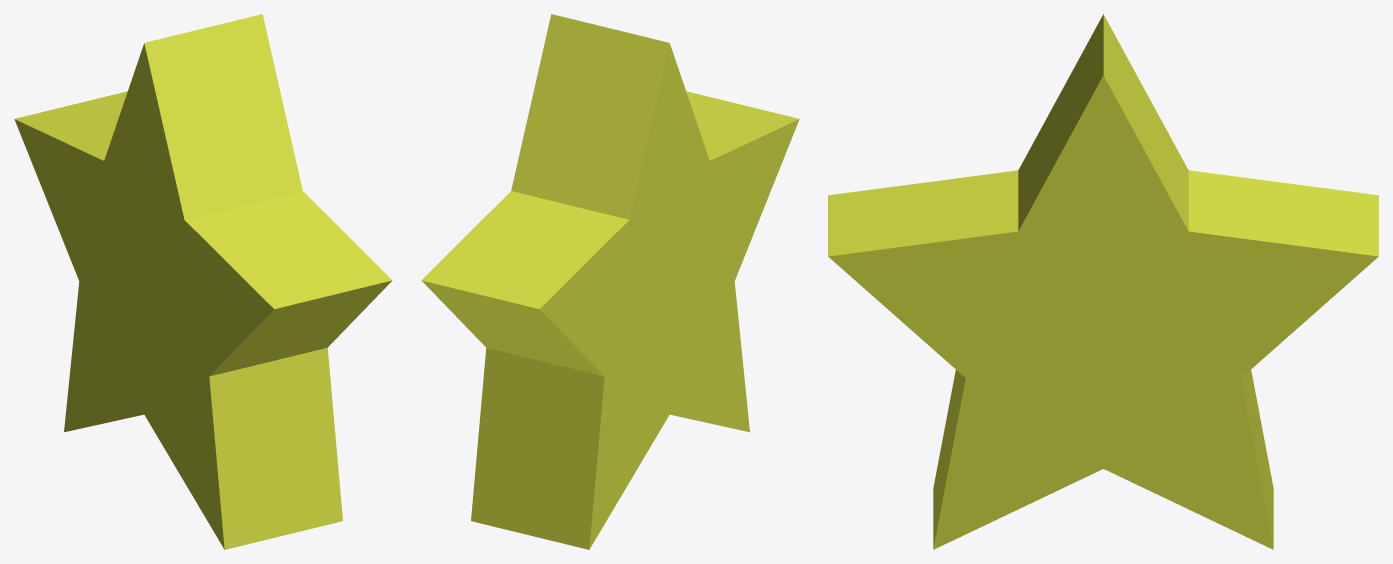
The model's file is Star.fbx.
The picture shows the model from 3 angles, left to right: view 1: azimuth 30°, elevation 25°; view 2: azimuth 150°, elevation 25°; view 3: azimuth 270°, elevation 25°; orthographic projection. The views are drawn at different scales.
Visible parts, largest first — view 1: Star; view 2: Star; view 3: Star.
Boxes of the visible parts, box(x1,y1,x2,y2) form: Star: box(14, 14, 392, 549); Star: box(421, 14, 799, 549); Star: box(828, 14, 1378, 549).
Bounding box in the file's own units: 50 × 181 × 190.
